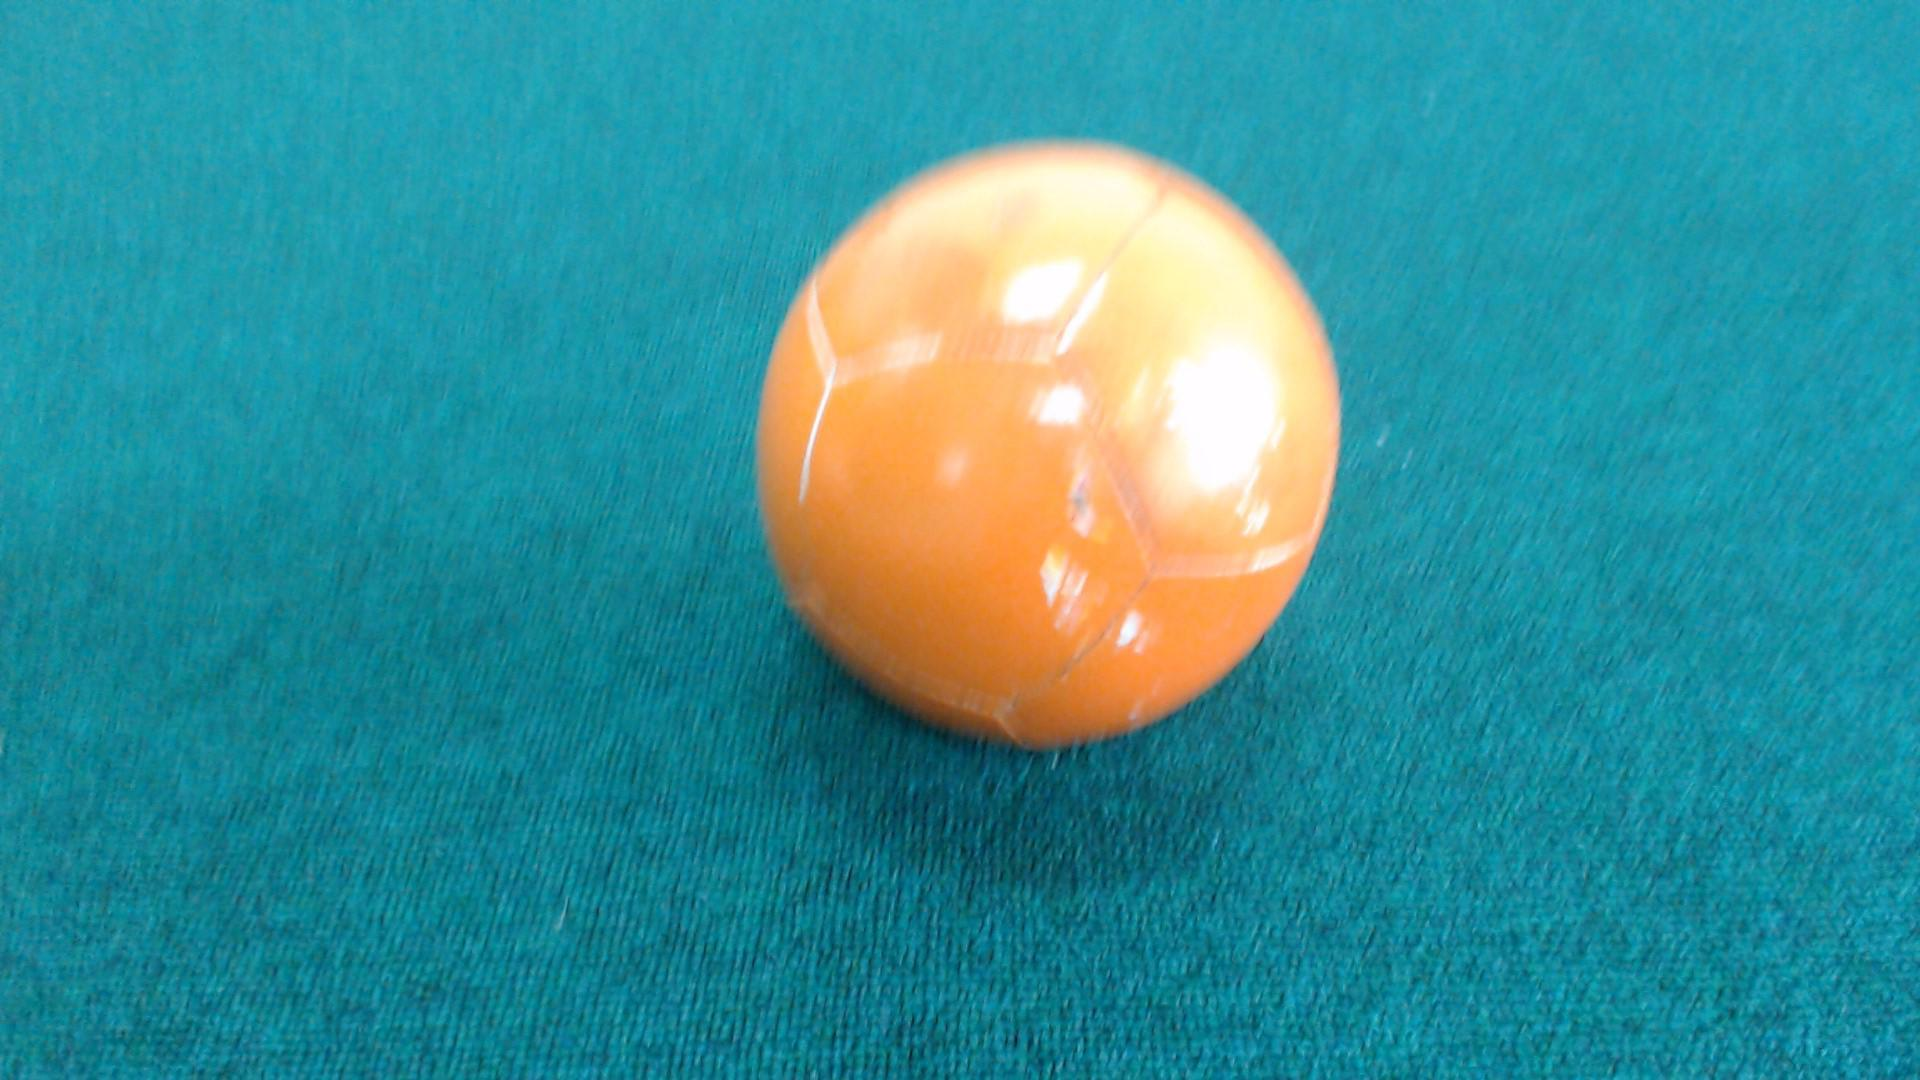bola: (735, 112, 1378, 773)
